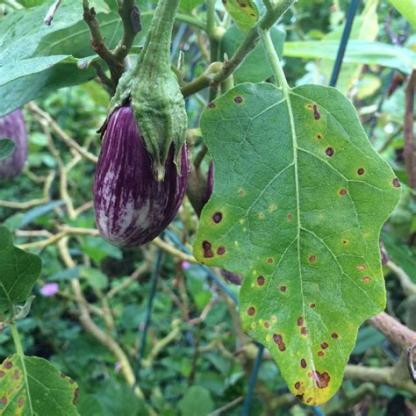black-spot: (298, 103, 352, 209), (278, 305, 338, 358), (208, 206, 232, 261)
